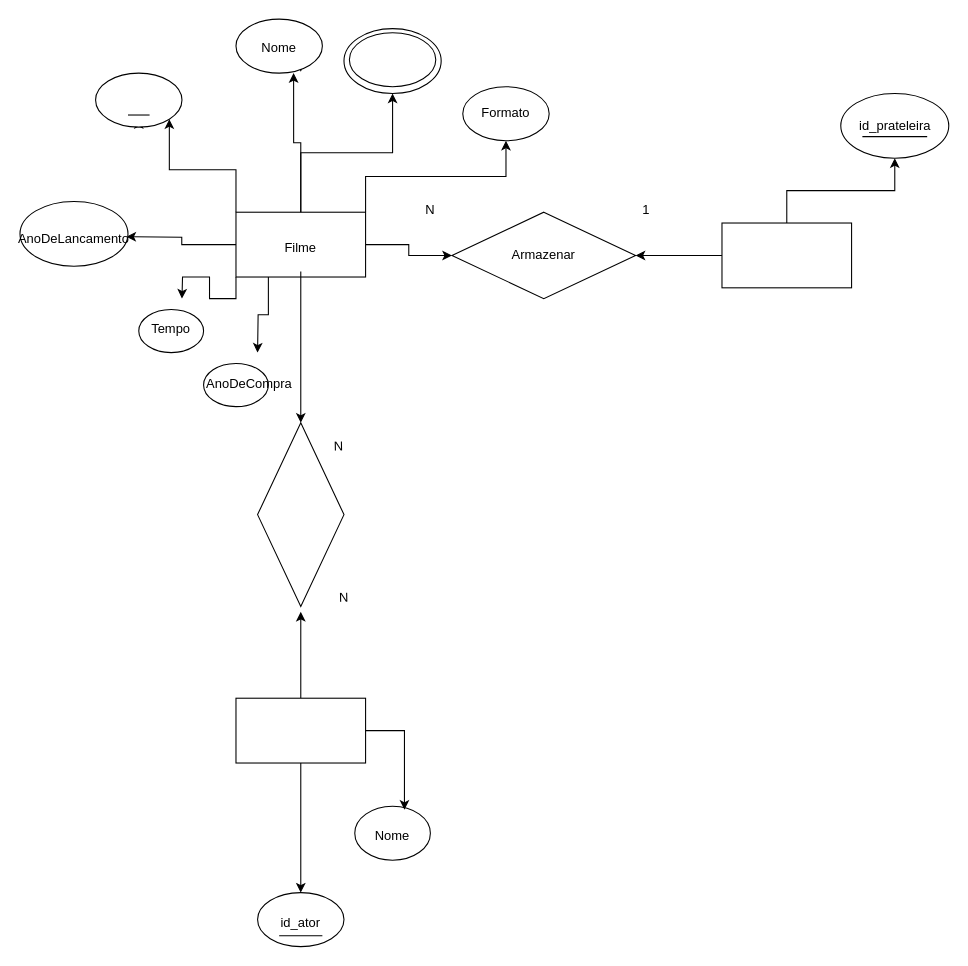
The diagram is 968 pixels wide and 966 high, and some of its shapes have lost their labels. Each missing label, with the centre of its shape:
Ator: pixel 300 730
Atua: pixel 300 514
Gêneros: pixel 392 59
ID: pixel 138 99
Prateleira: pixel 786 255
